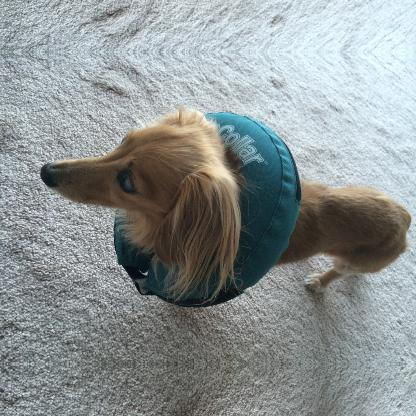Dog: (39, 104, 411, 306)
